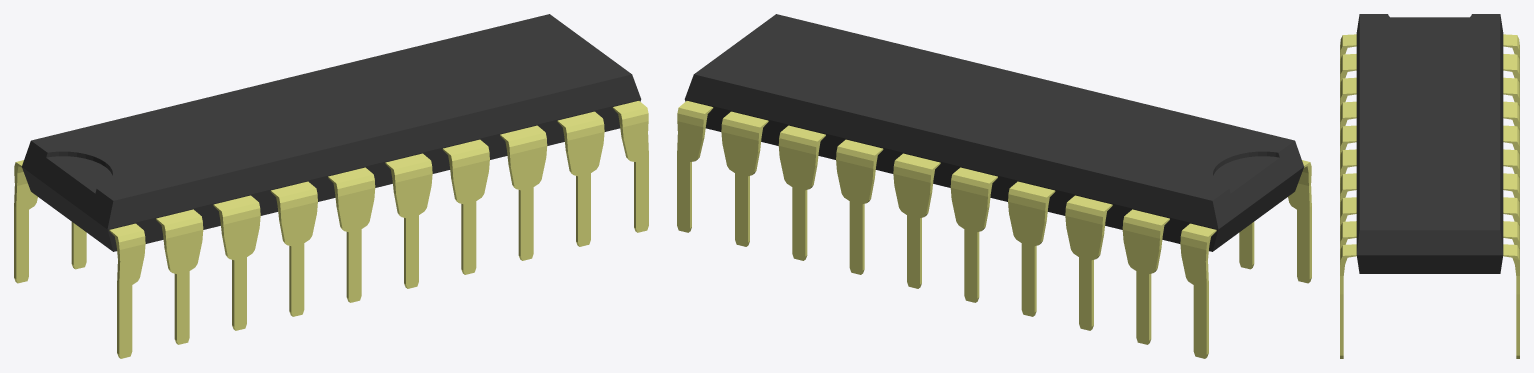
The picture shows the model from 3 angles, left to right: view 1: azimuth 30°, elevation 25°; view 2: azimuth 150°, elevation 25°; view 3: azimuth 270°, elevation 25°; orthographic projection. The views are drawn at different scales.
Visible parts, largest first — view 1: Cube; view 2: Cube; view 3: Cube.
Part boxes in pixels (bbox=[...]): Cube: bbox=[14, 14, 648, 358]; Cube: bbox=[677, 14, 1311, 358]; Cube: bbox=[1340, 14, 1519, 358].
Bounding box in the file's own units: 931 × 248 × 318.
